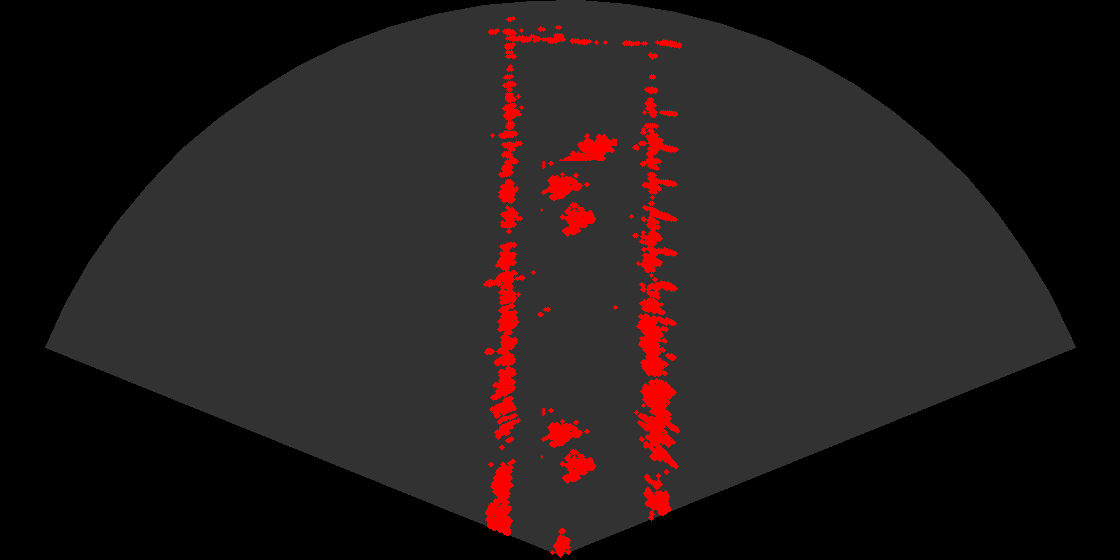cage: (541, 408, 604, 492), (541, 161, 604, 245)
frogman: (549, 127, 617, 174)
